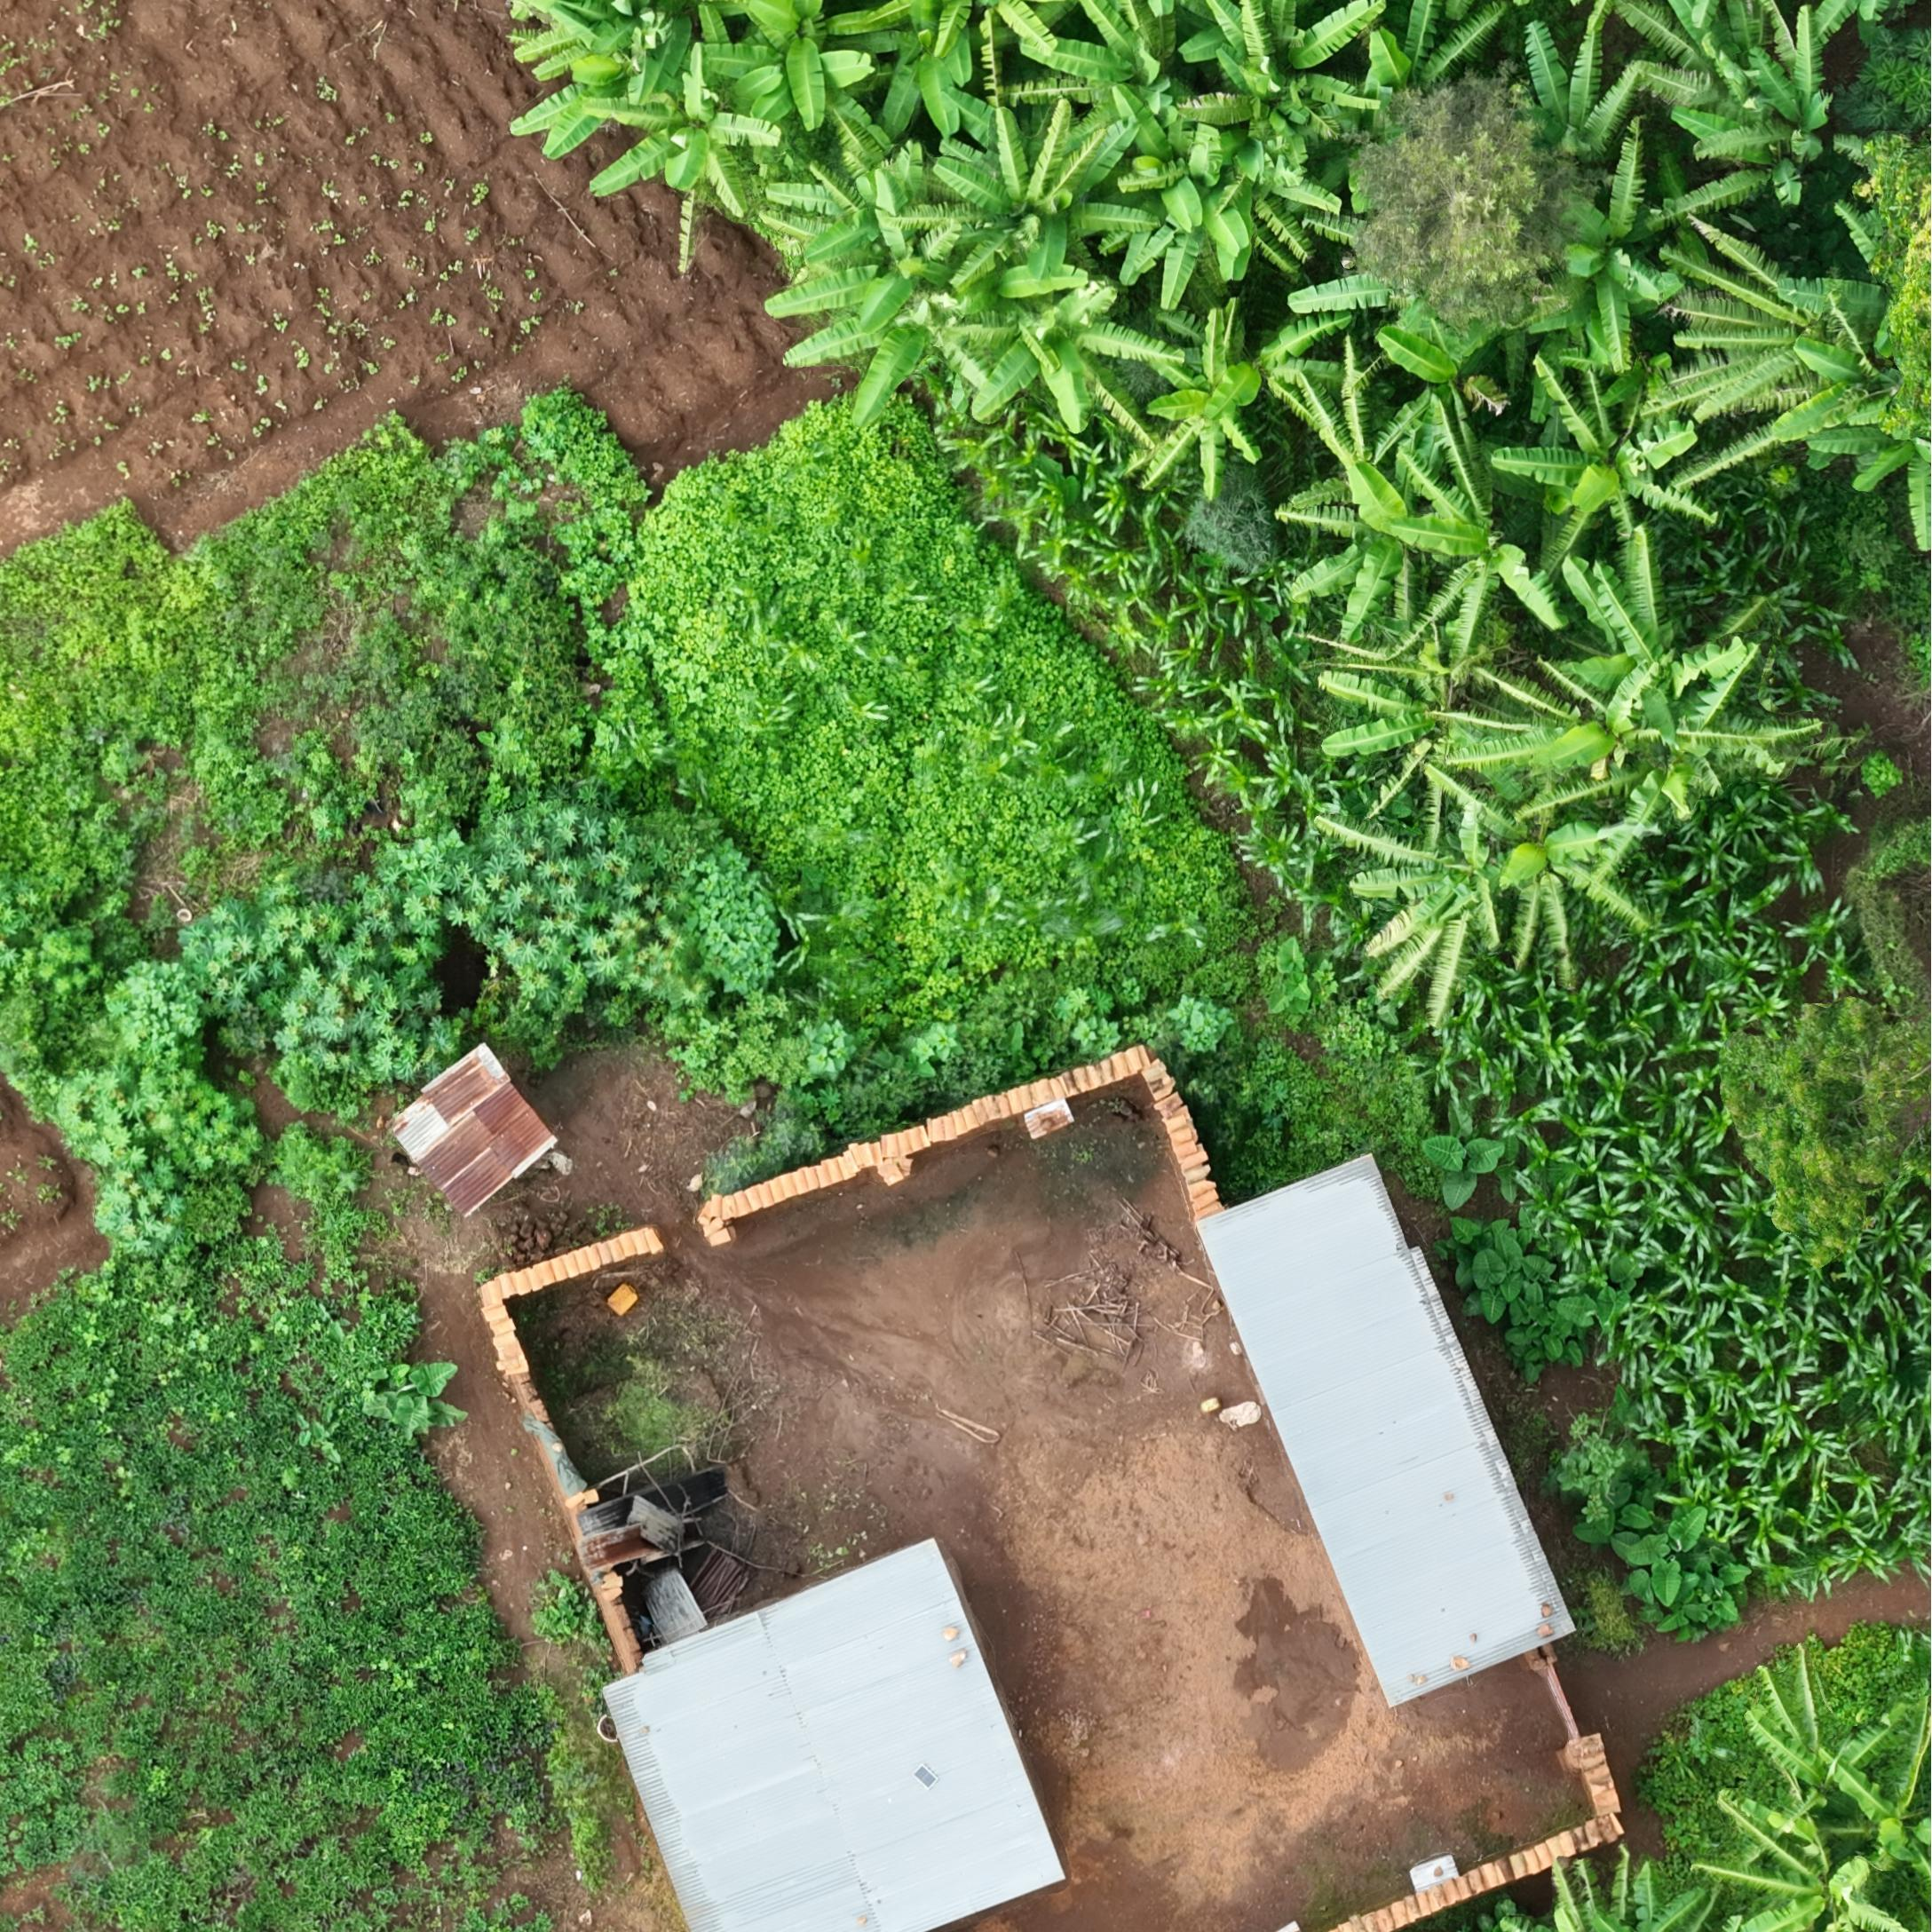Banana: (1624, 662, 1886, 860), (1392, 816, 1580, 1046), (1355, 665, 1610, 824), (1525, 801, 1714, 1010), (1332, 472, 1546, 644), (1583, 370, 1792, 545), (1637, 568, 1826, 738), (1465, 449, 1619, 655), (1626, 149, 1755, 373), (1182, 331, 1334, 501), (993, 149, 1175, 287), (1253, 16, 1410, 166), (1353, 357, 1491, 527), (1019, 303, 1168, 455), (1571, 690, 1769, 800), (632, 101, 800, 228), (810, 329, 1007, 435), (1771, 246, 1932, 373), (1702, 7, 1918, 101), (1713, 720, 1882, 835), (1244, 18, 1403, 140), (886, 14, 1056, 115), (754, 7, 920, 108), (1762, 104, 1927, 196), (1141, 103, 1277, 209), (814, 235, 987, 317), (1093, 7, 1237, 101), (824, 136, 973, 219), (540, 2, 676, 88), (1426, 5, 1552, 99), (1428, 364, 1566, 444), (1578, 18, 1645, 152), (1185, 212, 1300, 290), (1389, 255, 1486, 340), (1276, 145, 1391, 214), (1875, 329, 1932, 437)
